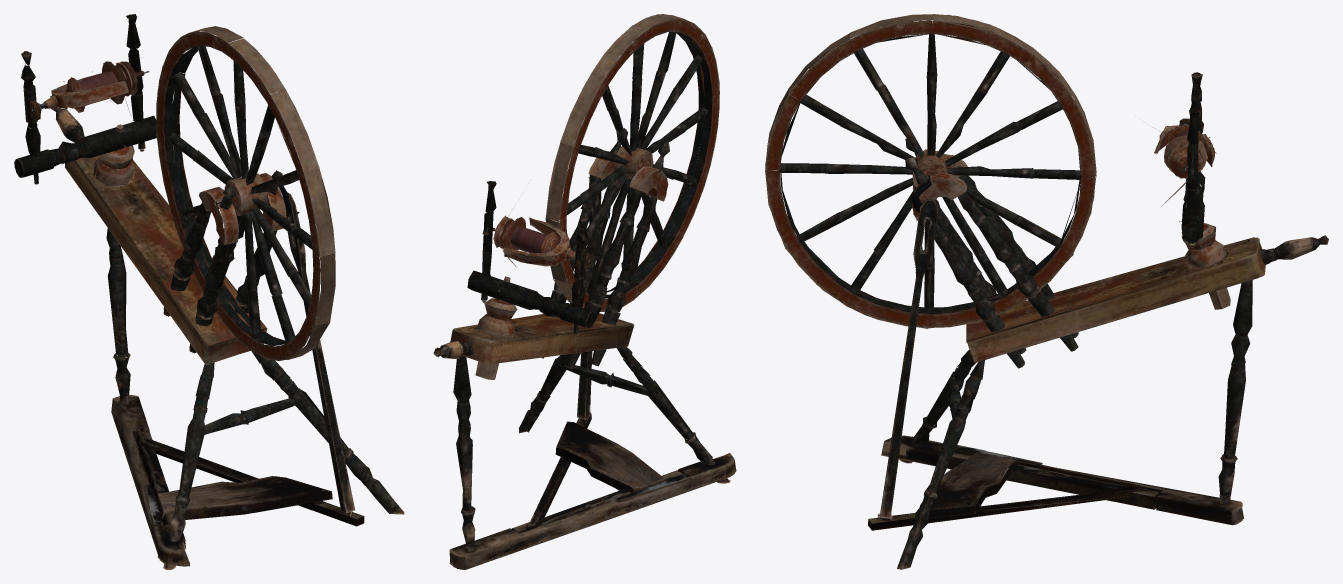
The model's file is spinning_wheel.glb.
3 views of the same model, side by side, from view 1: azimuth 30°, elevation 25°; view 2: azimuth 150°, elevation 25°; view 3: azimuth 270°, elevation 25° (orthographic). The views are drawn at different scales.
Parts seen in each view (by area): view 1: spinning_wheel_01; view 2: spinning_wheel_01; view 3: spinning_wheel_01.
Boxes of the visible parts, bbox=[...] form: spinning_wheel_01: bbox=[14, 14, 404, 569]; spinning_wheel_01: bbox=[433, 14, 736, 569]; spinning_wheel_01: bbox=[765, 14, 1328, 569].
Size of the model in its own units: 0.4896 by 0.9684 by 1.03.
Materials: 1 (1 with a texture image).
